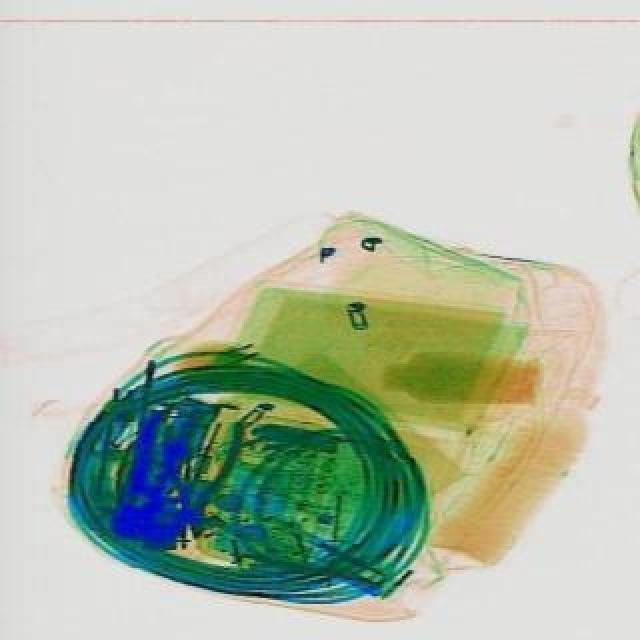wrench: (154, 420, 242, 538)
